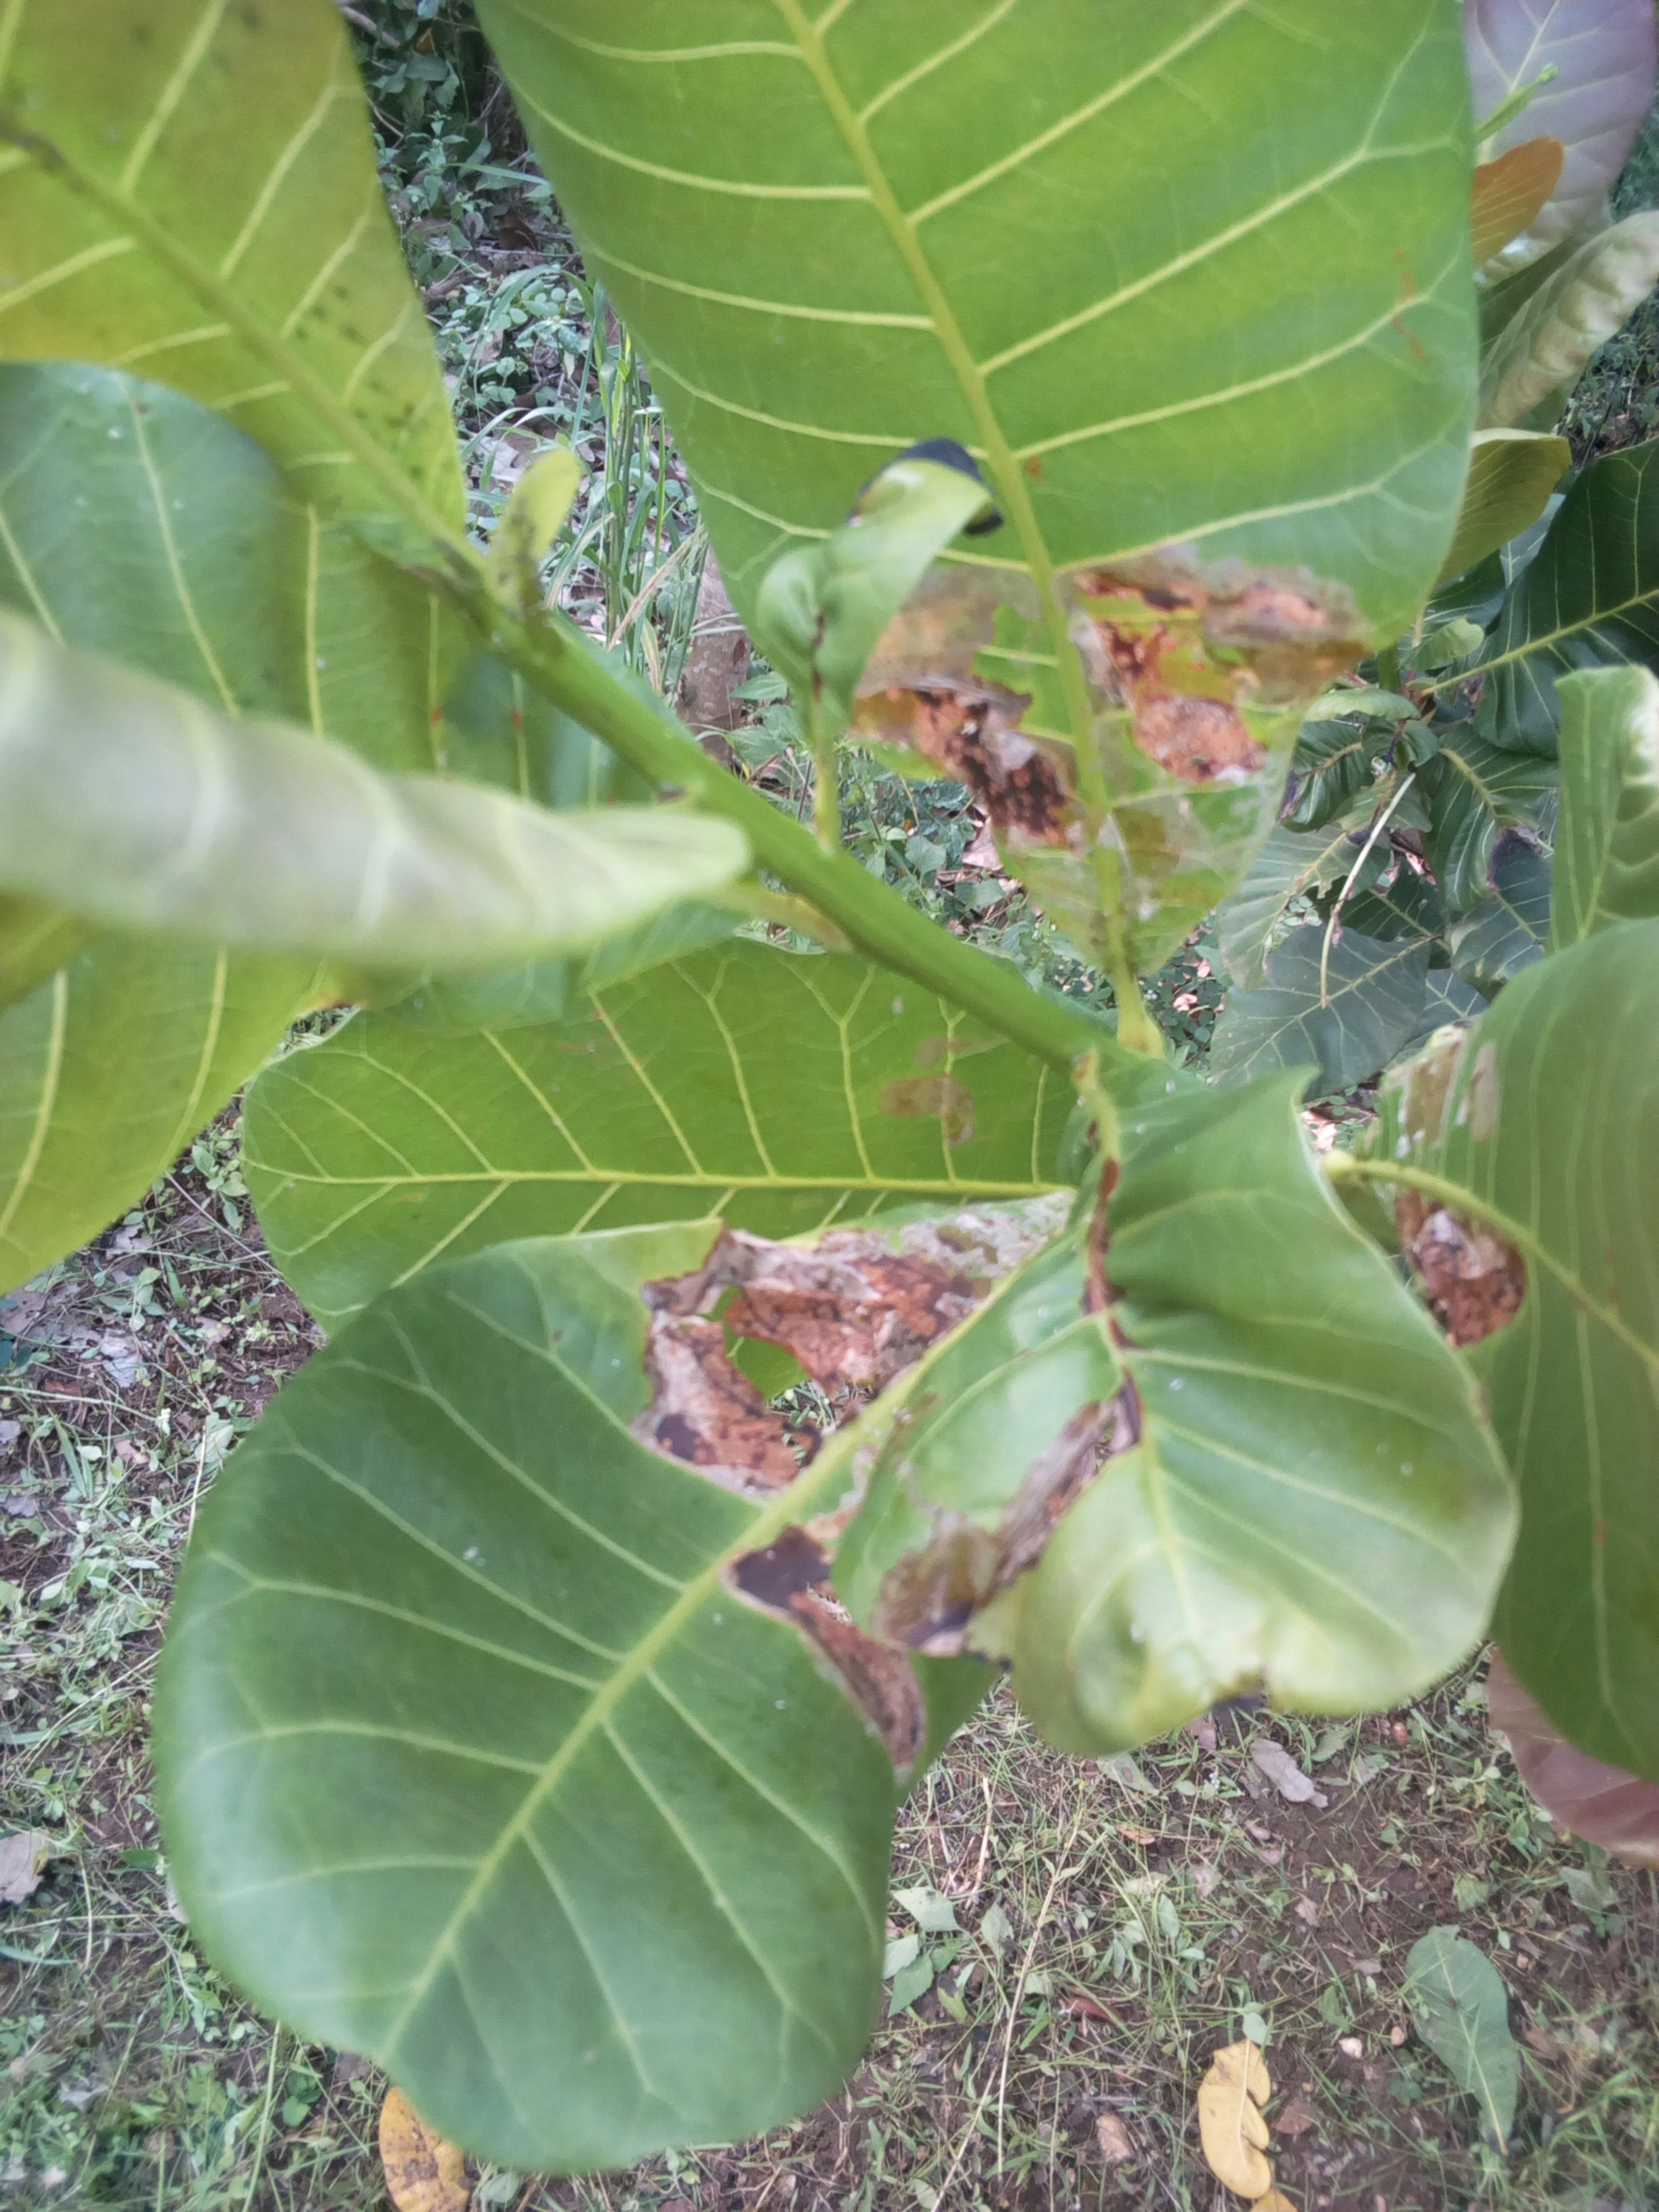Dysdercus wolkerii: (481, 0, 1579, 949), (809, 1045, 1554, 1759)
